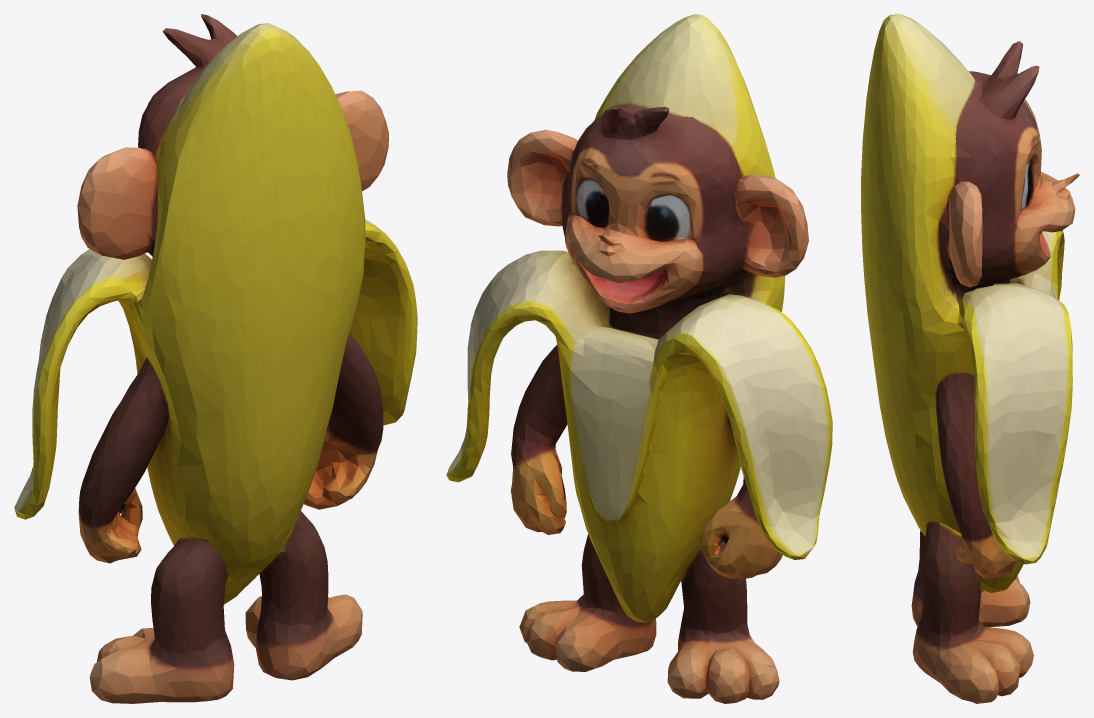
The model's file is ChimpanziniBananini.glb.
3 renders of one model, left to right at view 1: azimuth 30°, elevation 25°; view 2: azimuth 150°, elevation 25°; view 3: azimuth 270°, elevation 25°, orthographic. The views are drawn at different scales.
Visible parts, largest first — view 1: geometry_0; view 2: geometry_0; view 3: geometry_0.
Boxes of the visible parts, x1,y1,x2,y2 form: geometry_0: (14,14,417,703); geometry_0: (446,14,832,703); geometry_0: (861,14,1079,703).
Size of the model in its own units: 0.5993 by 1 by 0.3151.
Materials: 1 (1 with a texture image).
